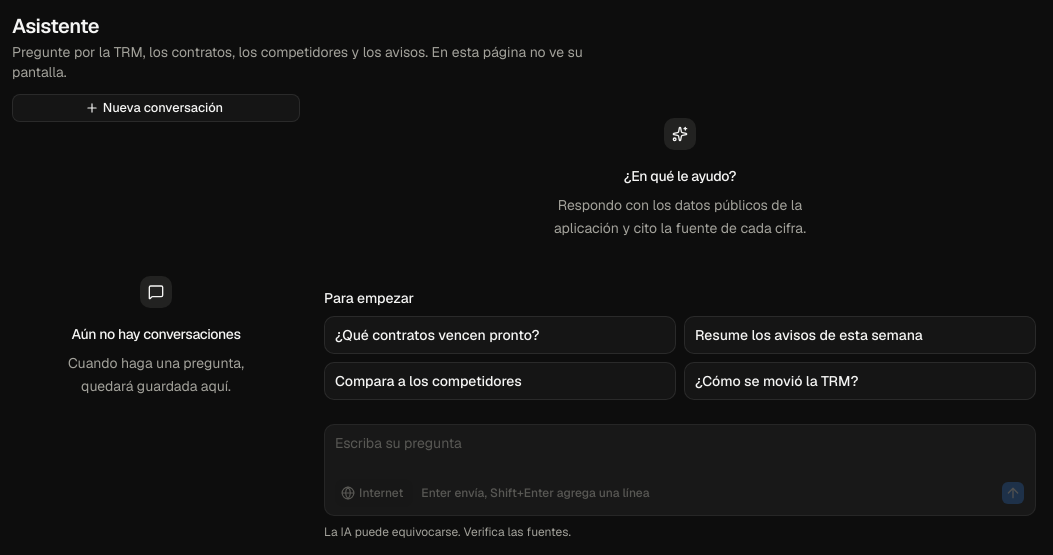
AssistantPage › has a Buscar en internet toggle that is on by default, is saved, and is sent with the message
The width and height of the screenshot is (1053, 555).
Click the button with aria-label "Buscar en internet".
click(374, 492)  # box [335, 478, 413, 506]
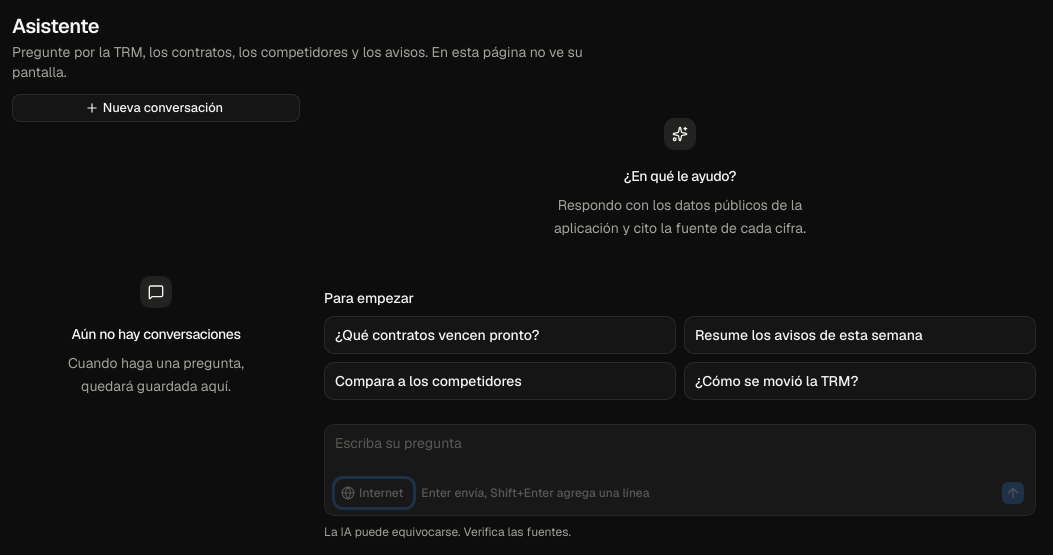
Type "hola" into the text box named "Mensaje para el asistente".
click(680, 448); type("hola")  # box [325, 424, 1035, 472]
Then press Enter
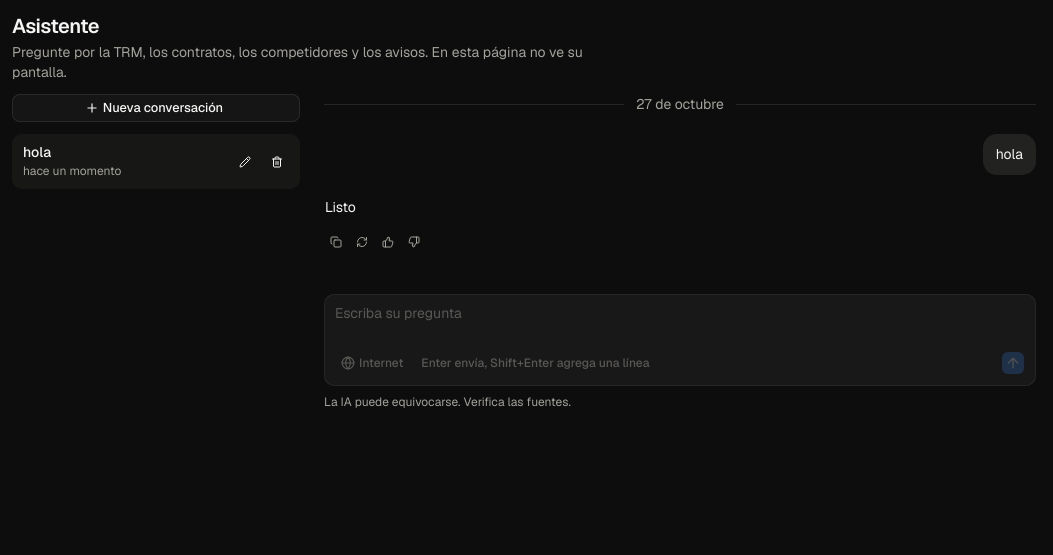
Result: the text "Listo" is shown at [325, 196, 356, 219]
